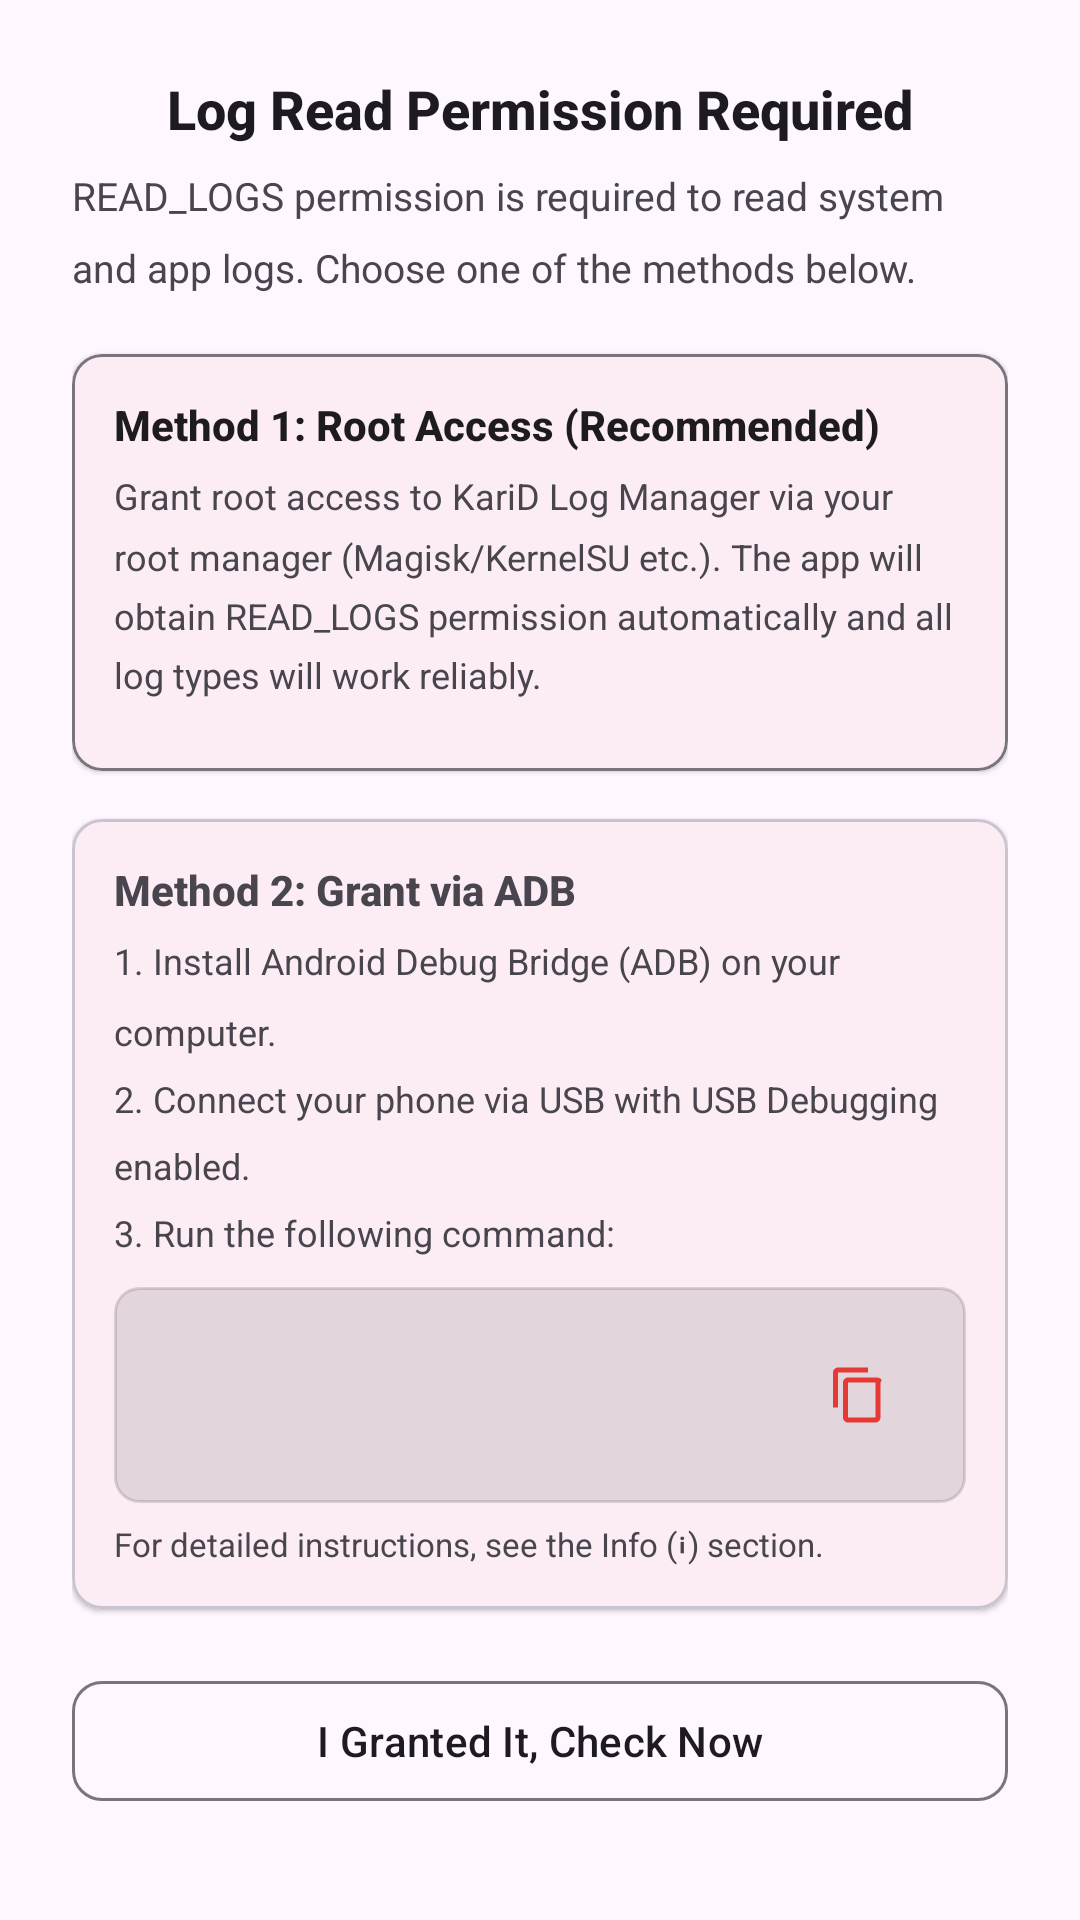

Icons on this 1080 × 1920 Android screen, each with the point to tap as point (x, y):
Copy: point (857, 1395)
